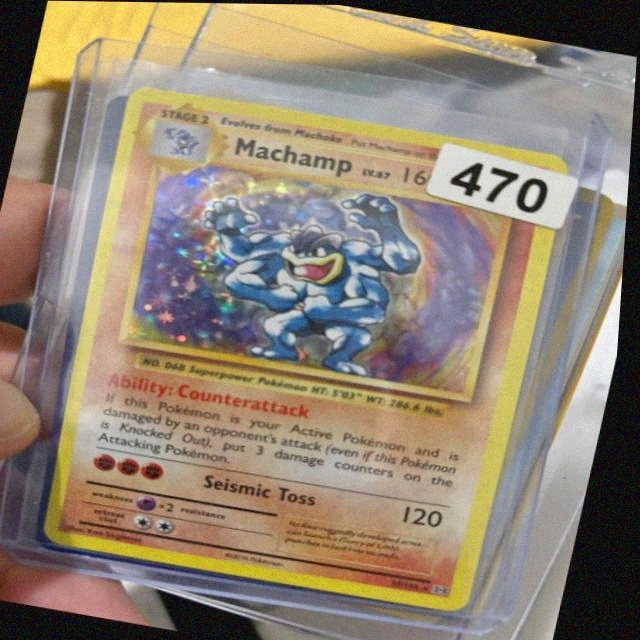card: (48, 83, 572, 610)
